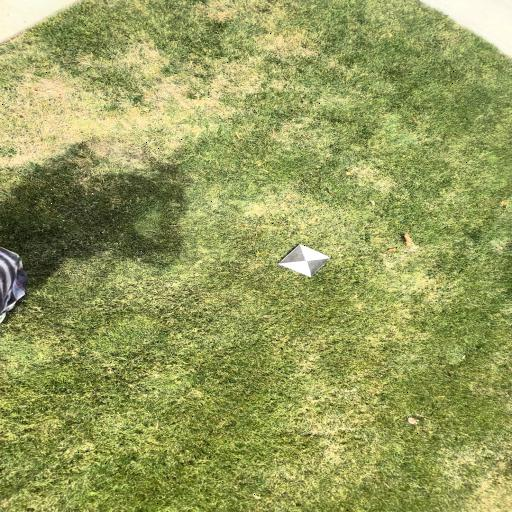target: (278, 245, 331, 276)
